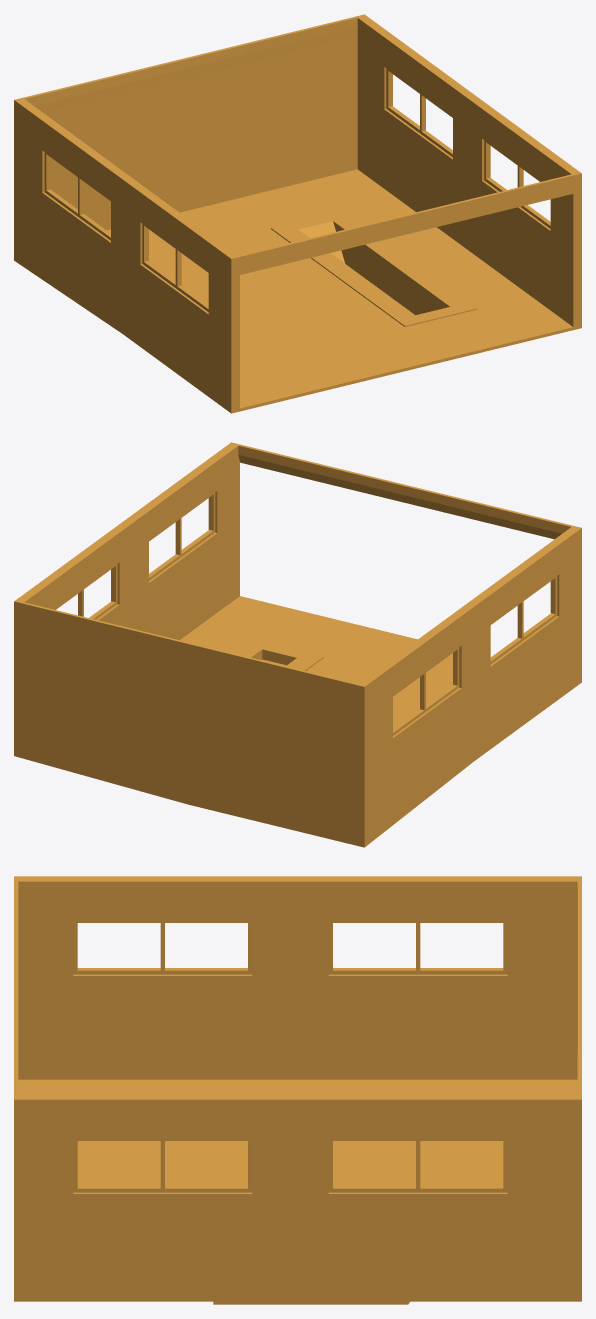
Rendered from building-car-repair 1.fbx.
3 renders of one model, top to bottom at view 1: azimuth 30°, elevation 25°; view 2: azimuth 150°, elevation 25°; view 3: azimuth 270°, elevation 25°, orthographic. The views are drawn at different scales.
Parts seen in each view (by area): view 1: building-car-repair; view 2: building-car-repair; view 3: building-car-repair.
Part boxes in pixels (x1=…): building-car-repair: x1=14, y1=14, x2=581, y2=413; building-car-repair: x1=14, y1=442, x2=581, y2=847; building-car-repair: x1=14, y1=876, x2=581, y2=1304.
Size of the model in its own units: 1210 by 649 by 1300.
